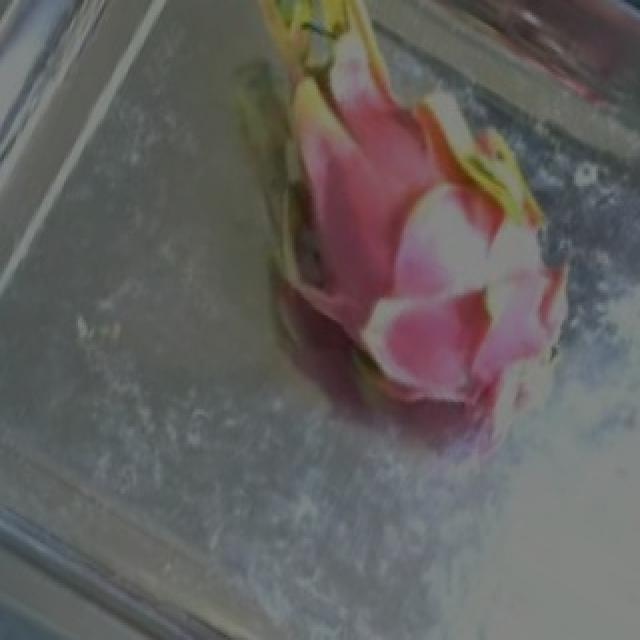fruit: (176, 2, 632, 469)
